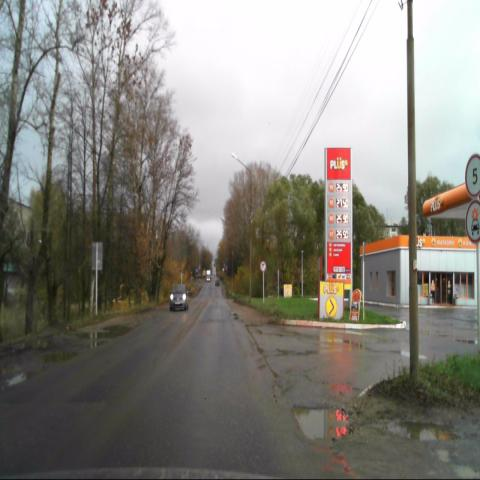3_24: (464, 153, 480, 198)
3_33: (466, 199, 480, 244)
